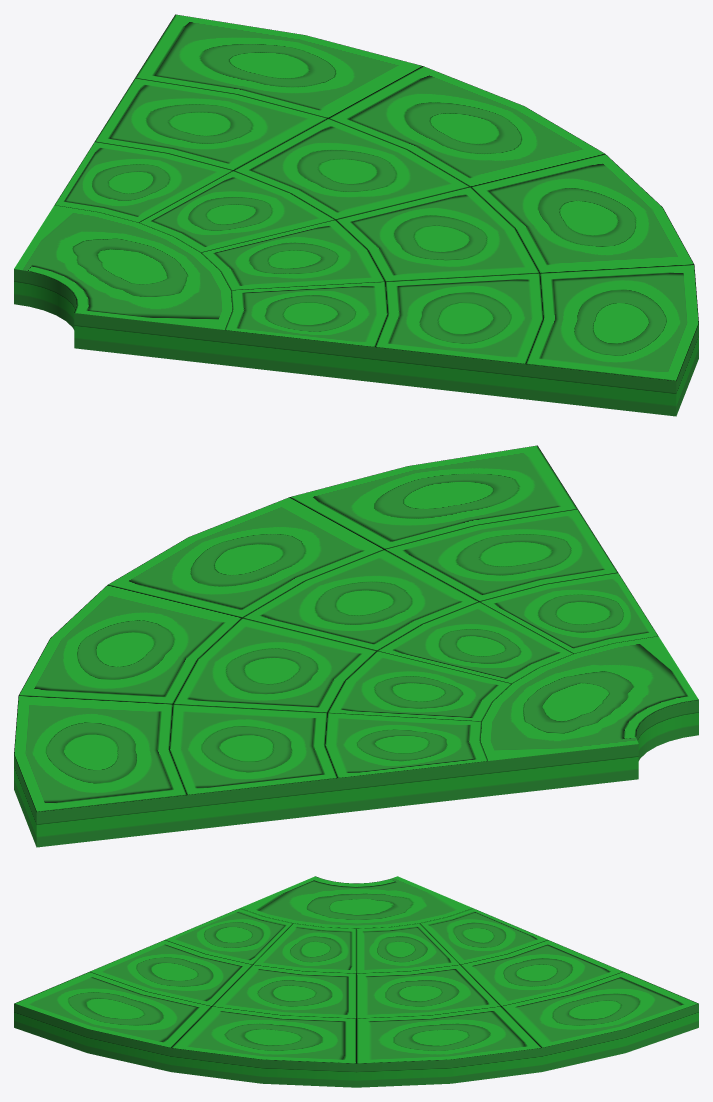
The model's file is 90Turn.fbx.
The picture shows the model from 3 angles, top to bottom: view 1: azimuth 30°, elevation 25°; view 2: azimuth 150°, elevation 25°; view 3: azimuth 270°, elevation 25°; orthographic projection. The views are drawn at different scales.
Visible parts, largest first — view 1: 90Turn; view 2: 90Turn; view 3: 90Turn.
Part boxes in pixels (x1,y1,x2,y2): 90Turn: (14,14,698,416); 90Turn: (14,445,698,847); 90Turn: (14,876,698,1087).
Size of the model in its own units: 4.16 by 0.25 by 6.43.
1 material, 1 textured.
